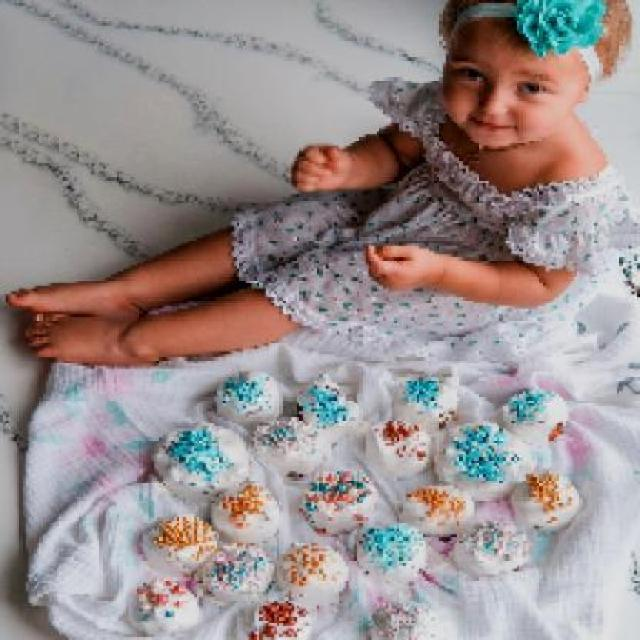child: (5, 0, 636, 375)
